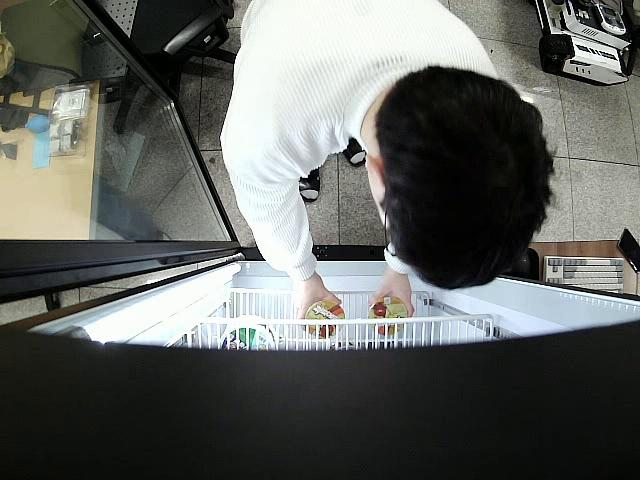00_hand: (291, 272, 342, 333), (371, 275, 415, 320)
04_chapagetti_S: (304, 300, 348, 338), (367, 299, 409, 336)
